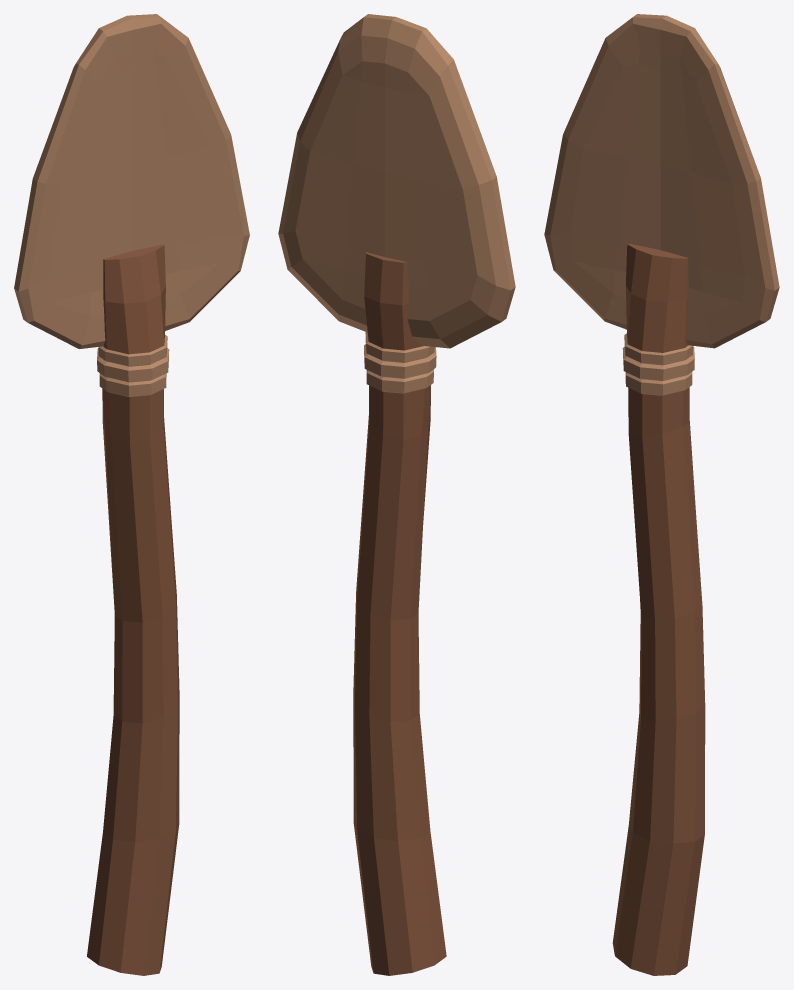
The model's file is Wooden Shovel.fbx.
The picture shows the model from 3 angles, left to right: view 1: azimuth 30°, elevation 25°; view 2: azimuth 150°, elevation 25°; view 3: azimuth 330°, elevation 25°; orthographic projection.
Visible parts, largest first — view 1: Wooden Shovel; view 2: Wooden Shovel; view 3: Wooden Shovel.
Part boxes in pixels (x1=…): Wooden Shovel: x1=14, y1=14, x2=249, y2=975; Wooden Shovel: x1=278, y1=14, x2=515, y2=975; Wooden Shovel: x1=544, y1=14, x2=779, y2=975.
Size of the model in its own units: 28.35 by 111 by 8.42.
